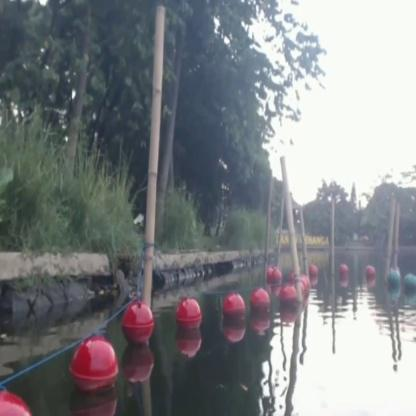green_buoy: (386, 269, 400, 293), (403, 272, 415, 296)
red_buoy: (70, 340, 117, 394), (123, 300, 153, 342), (176, 298, 200, 336), (249, 286, 270, 320), (223, 292, 244, 322), (280, 287, 296, 314), (270, 264, 282, 287), (300, 274, 310, 300), (364, 263, 376, 282), (339, 260, 347, 281), (309, 264, 317, 278)
